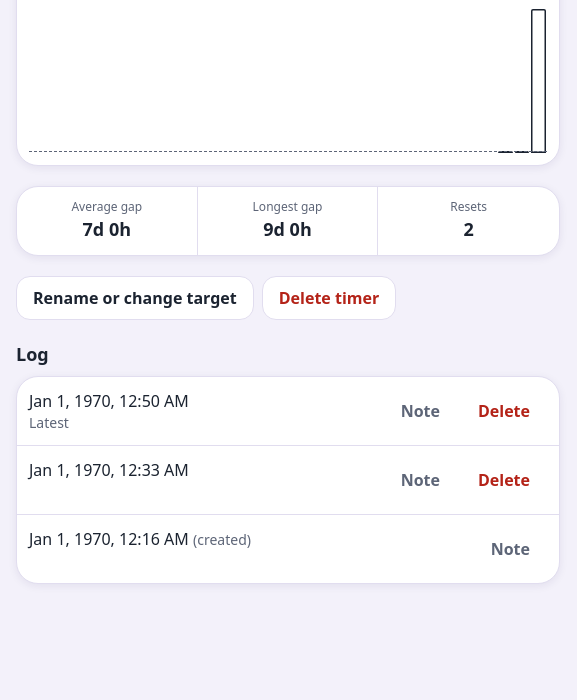
Test: TimerDetail › saves a new note on an existing entry
(page scrolled)
Click the button "Note" in the row of "Jan 1, 1970, 12:33 AM" at (420, 480), box x1=384 y1=458 x2=457 y2=502
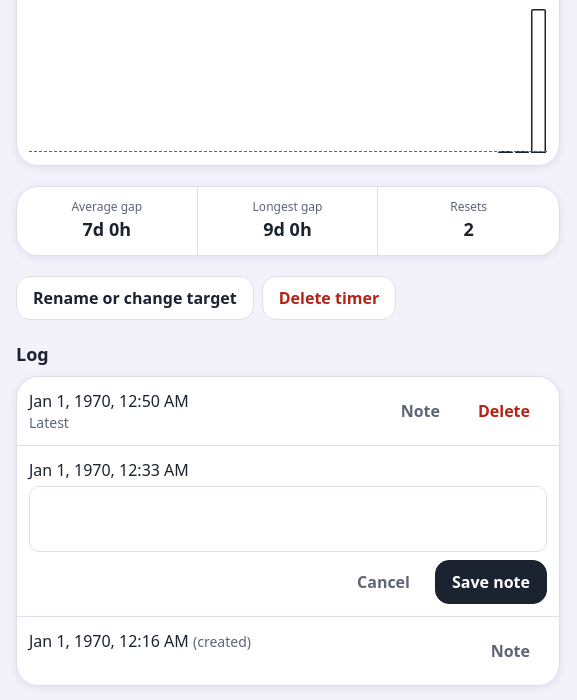
Type "Changed the filter" into the text box named "Note" at (288, 518), box x1=29 y1=486 x2=547 y2=552
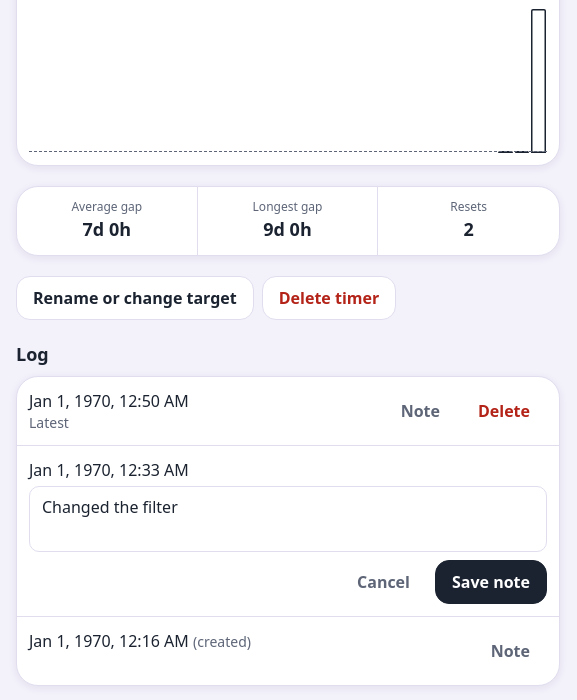
Submit the form, box x1=29 y1=486 x2=547 y2=604
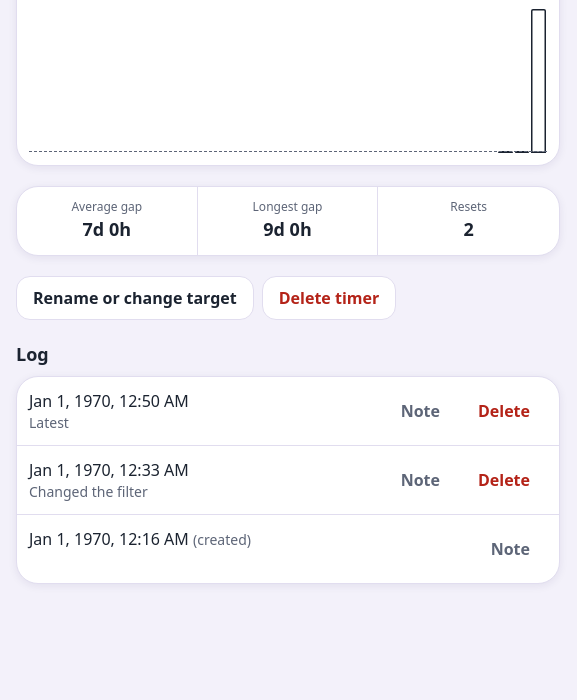
expect the list item with test id "log-entry" shows "Changed the filter": met, box x1=29 y1=482 x2=148 y2=500
